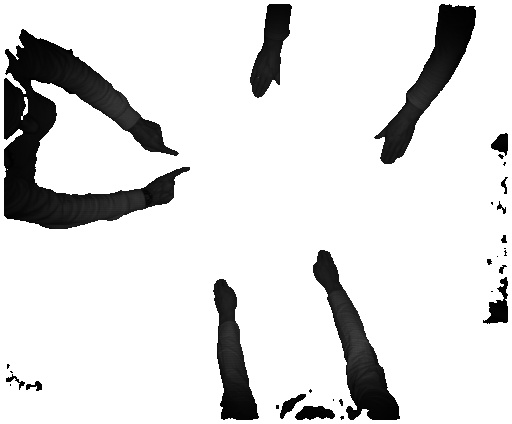hand: (368, 119, 421, 167), (137, 104, 183, 159), (248, 51, 287, 103), (150, 167, 191, 215), (208, 272, 239, 318), (312, 248, 343, 288)
